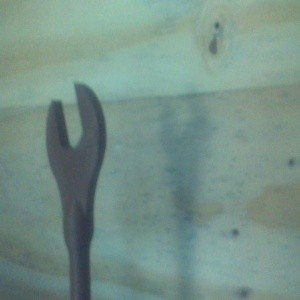spanner: (45, 81, 107, 300)
